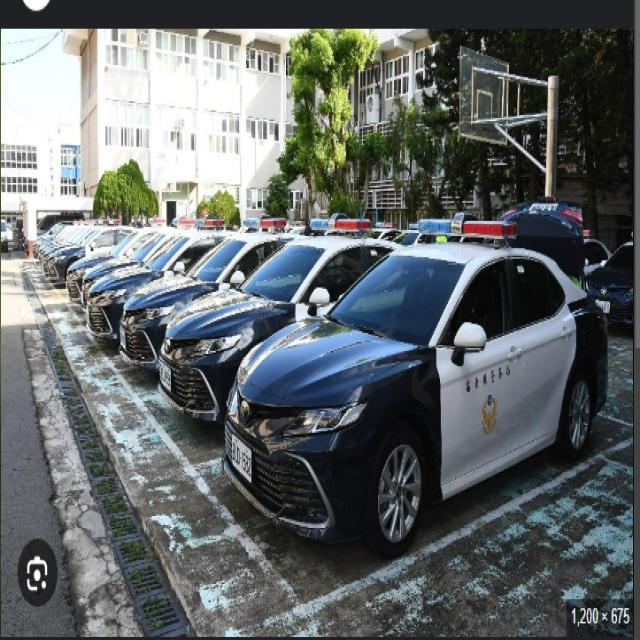police_car: (217, 200, 616, 545)
